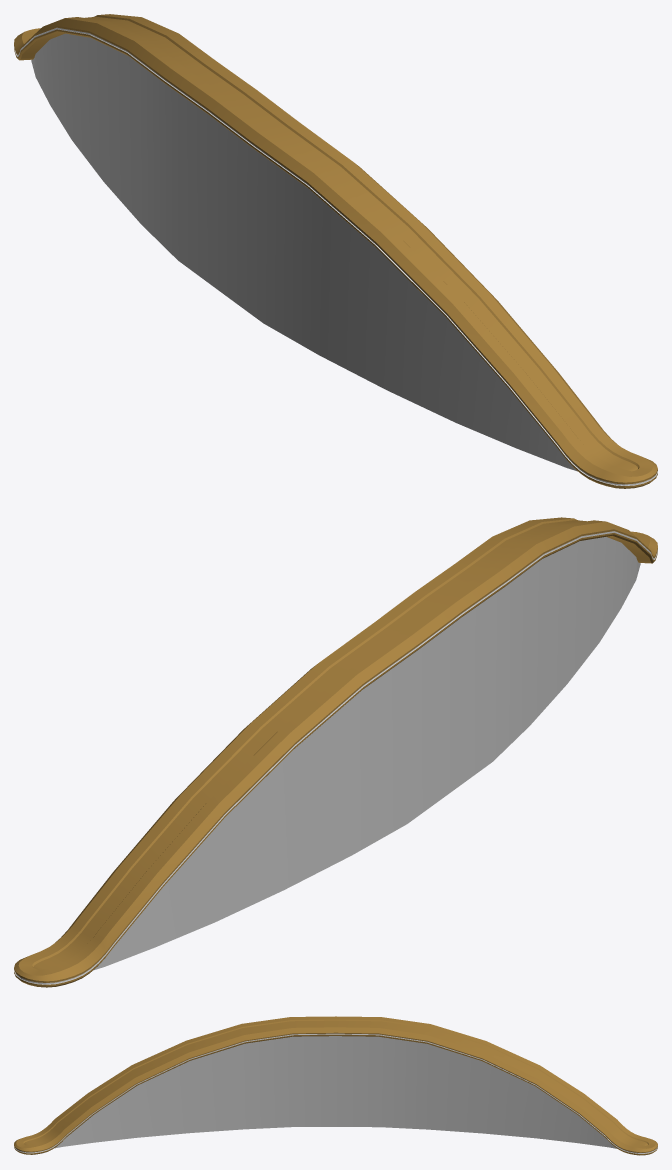
The model's file is BSPKWL_Rainbow.fbx.
The picture shows the model from 3 angles, top to bottom: view 1: azimuth 30°, elevation 25°; view 2: azimuth 150°, elevation 25°; view 3: azimuth 270°, elevation 25°; orthographic projection. The views are drawn at different scales.
Visible parts, largest first — view 1: sm_wall_medium_screen.015; view 2: sm_wall_medium_screen.015; view 3: sm_wall_medium_screen.015.
Boxes of the visible parts, bbox=[...] form: sm_wall_medium_screen.015: bbox=[14, 14, 657, 488]; sm_wall_medium_screen.015: bbox=[14, 517, 657, 987]; sm_wall_medium_screen.015: bbox=[14, 1016, 657, 1155].
Size of the model in its own units: 458 by 538 by 3092.
